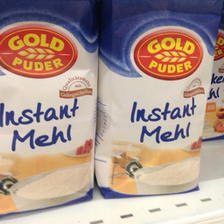flour: (98, 1, 219, 199), (1, 4, 97, 220)
